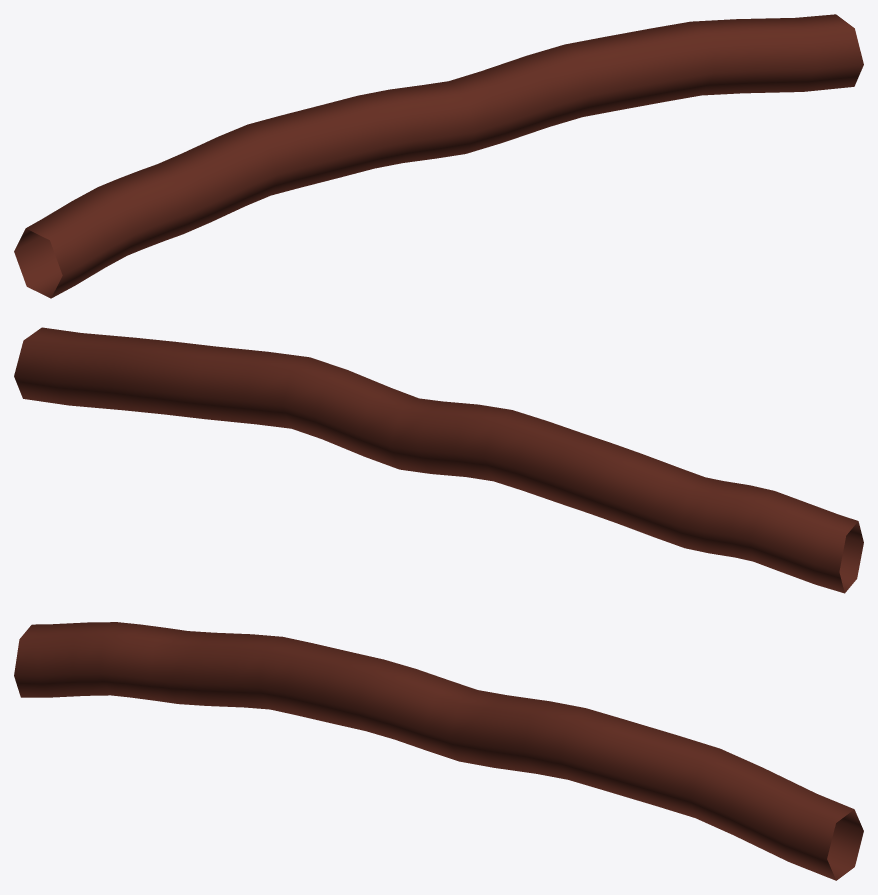
Rendered from SM_GroundRoot_Var11.fbx.
3 renders of one model, top to bottom at view 1: azimuth 30°, elevation 25°; view 2: azimuth 150°, elevation 25°; view 3: azimuth 330°, elevation 25°, orthographic.
Visible parts, largest first — view 1: BezierCurve.053; view 2: BezierCurve.053; view 3: BezierCurve.053.
Boxes of the visible parts, left/top/right/bottom form: BezierCurve.053: left=14, top=14, right=863, bottom=298; BezierCurve.053: left=14, top=327, right=863, bottom=593; BezierCurve.053: left=14, top=622, right=863, bottom=880.
Bounding box in the file's own units: 2984 × 347 × 335.
